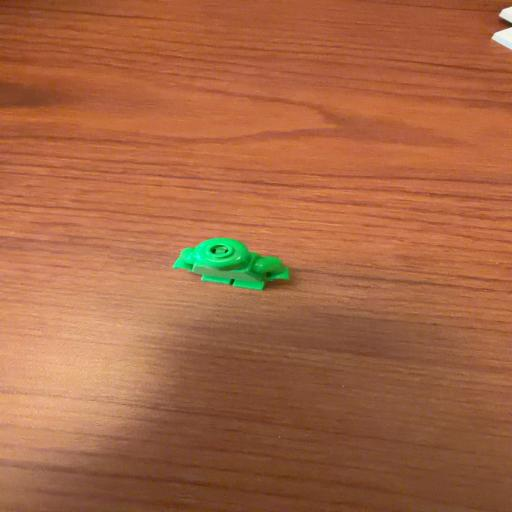UnoQ-minifig-detector: (172, 237, 293, 290)
